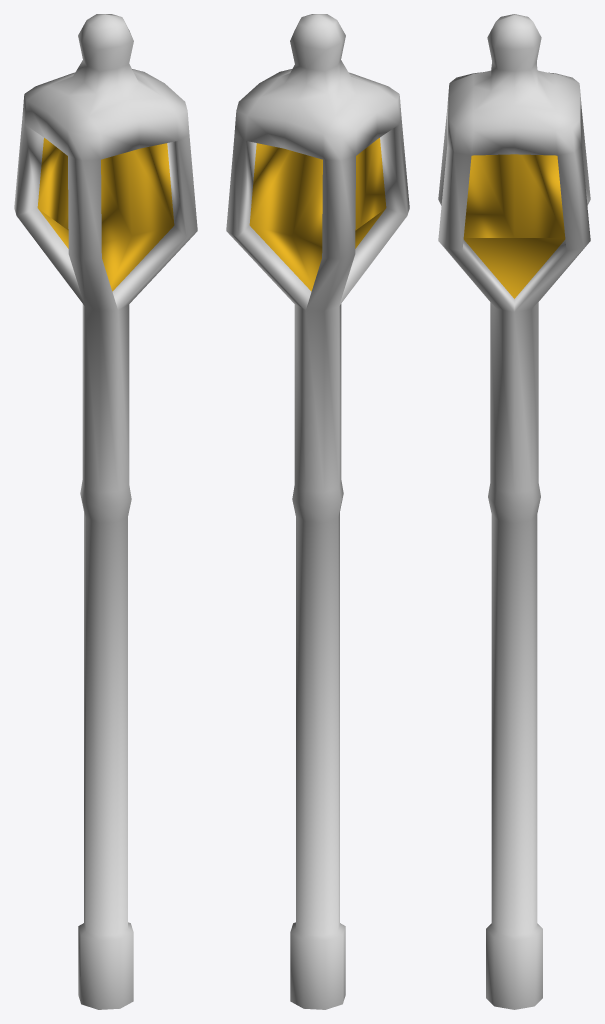
File: Lamp.fbx
The picture shows the model from 3 angles, left to right: view 1: azimuth 30°, elevation 25°; view 2: azimuth 150°, elevation 25°; view 3: azimuth 270°, elevation 25°; orthographic projection.
Parts seen in each view (by area): view 1: Lights; view 2: Lights; view 3: Lights.
Part boxes in pixels (x1,y1,x2,y2): Lights: [14, 14, 197, 1009]; Lights: [226, 14, 409, 1009]; Lights: [438, 14, 590, 1009].
Size of the model in its own units: 0.614 by 4.56 by 0.6411.
